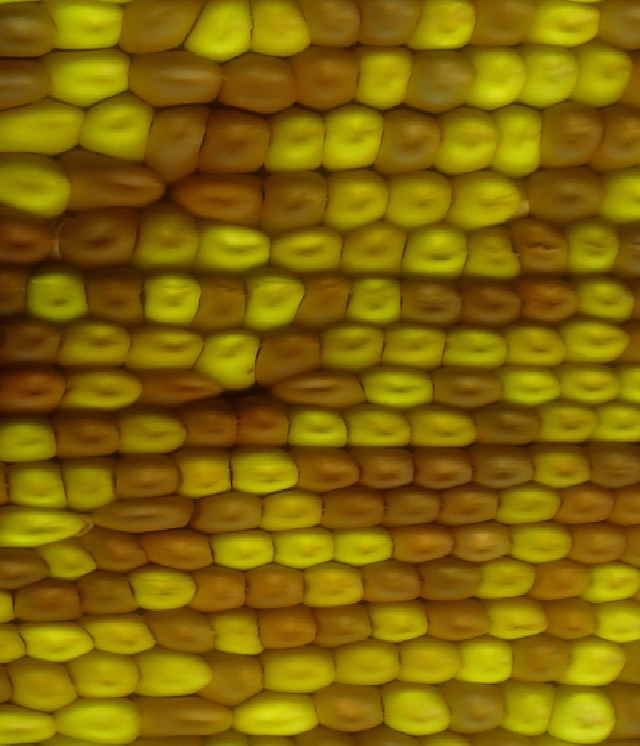fluorescent: (43, 46, 135, 108), (83, 91, 156, 165), (0, 145, 72, 218), (136, 201, 201, 276), (0, 98, 84, 154), (317, 101, 384, 171), (348, 43, 414, 112), (447, 170, 525, 228), (573, 39, 635, 109), (432, 106, 494, 176), (491, 103, 546, 180), (522, 40, 583, 109), (548, 685, 617, 746), (400, 220, 470, 280), (264, 103, 323, 174), (381, 169, 452, 228), (46, 2, 128, 53), (268, 222, 344, 277), (241, 269, 306, 333), (322, 166, 388, 229), (28, 260, 90, 327), (54, 698, 144, 744), (228, 691, 322, 735), (381, 681, 454, 737), (469, 45, 528, 114), (195, 219, 269, 274), (112, 406, 190, 457), (248, 1, 315, 60), (196, 332, 263, 391), (339, 222, 407, 280), (0, 504, 89, 548), (190, 2, 256, 61), (6, 655, 78, 709), (135, 645, 212, 695), (70, 650, 143, 702), (462, 223, 523, 285), (57, 318, 133, 367), (560, 216, 621, 277), (522, 2, 601, 49), (4, 459, 72, 513), (407, 3, 480, 53), (342, 399, 415, 449), (404, 401, 478, 450), (502, 319, 573, 370), (126, 564, 201, 612), (230, 445, 304, 493), (569, 274, 640, 324), (267, 644, 339, 693), (127, 327, 207, 371), (17, 620, 95, 665), (562, 637, 628, 690), (138, 272, 200, 328), (300, 560, 368, 611), (359, 364, 436, 409), (62, 369, 143, 411), (381, 322, 449, 371), (58, 460, 122, 512), (258, 488, 331, 533), (207, 607, 272, 657), (344, 275, 404, 329), (75, 612, 154, 653), (336, 638, 402, 687), (177, 444, 235, 499), (0, 411, 60, 464), (323, 320, 385, 371), (270, 528, 343, 571), (205, 528, 279, 570), (443, 322, 509, 369), (286, 401, 349, 450), (563, 317, 631, 362), (398, 639, 463, 686), (535, 401, 601, 446), (328, 524, 396, 567), (533, 443, 595, 490), (505, 523, 574, 565), (494, 482, 562, 524), (456, 637, 515, 685), (365, 599, 431, 641), (478, 553, 538, 599), (504, 680, 556, 733), (557, 365, 622, 407), (485, 598, 552, 638), (37, 539, 98, 580), (581, 562, 640, 604), (501, 369, 564, 408), (0, 704, 58, 746), (599, 167, 640, 223), (591, 599, 640, 644), (593, 401, 640, 444), (0, 624, 32, 665)
nonfluorescent: (58, 149, 168, 211), (128, 50, 230, 106), (174, 171, 268, 229), (146, 102, 211, 185), (216, 50, 299, 114), (54, 206, 133, 270), (132, 693, 236, 741), (518, 167, 607, 223), (289, 44, 363, 109), (373, 106, 442, 174), (538, 98, 605, 167), (269, 367, 370, 412), (118, 1, 200, 56), (258, 169, 332, 229), (407, 49, 474, 113), (505, 218, 575, 278), (0, 198, 62, 265), (83, 267, 151, 328), (201, 106, 265, 170), (202, 648, 270, 708), (253, 327, 325, 383), (88, 497, 199, 533), (139, 523, 217, 574), (398, 275, 467, 330), (144, 607, 221, 656), (54, 403, 121, 459), (190, 487, 268, 535), (291, 446, 365, 496), (12, 577, 86, 627), (443, 678, 510, 733), (426, 365, 506, 411), (314, 683, 386, 734), (190, 274, 252, 333), (111, 453, 186, 501), (463, 443, 537, 491), (232, 393, 294, 450), (356, 441, 421, 495), (78, 525, 152, 572), (509, 633, 569, 690), (317, 485, 389, 532), (409, 443, 478, 492), (469, 402, 547, 445), (298, 274, 354, 333), (242, 562, 309, 611), (0, 366, 68, 414), (0, 2, 58, 57), (473, 1, 538, 50), (357, 560, 425, 606), (0, 313, 59, 366), (80, 567, 146, 614), (135, 366, 221, 402), (179, 401, 242, 450), (0, 60, 59, 112), (299, 2, 362, 50), (462, 281, 525, 329), (516, 275, 583, 320), (598, 101, 640, 172), (583, 440, 640, 492), (190, 564, 248, 614), (420, 556, 481, 603), (562, 520, 627, 564), (423, 598, 491, 640), (438, 482, 500, 528), (307, 604, 378, 644), (378, 487, 444, 530), (553, 483, 617, 527), (389, 524, 456, 566), (527, 560, 591, 603), (542, 597, 601, 643), (447, 523, 516, 561), (256, 608, 318, 650), (359, 2, 417, 46), (0, 546, 49, 591), (604, 681, 640, 738), (598, 2, 640, 50), (0, 261, 31, 317), (610, 483, 640, 525)
